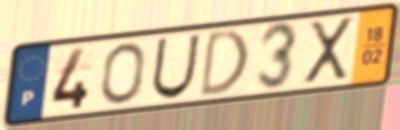3: (254, 19, 301, 95)
4: (49, 45, 92, 112)
D: (197, 26, 252, 101)
O: (99, 41, 147, 107)
U: (149, 32, 203, 102)
X: (302, 15, 356, 88)
